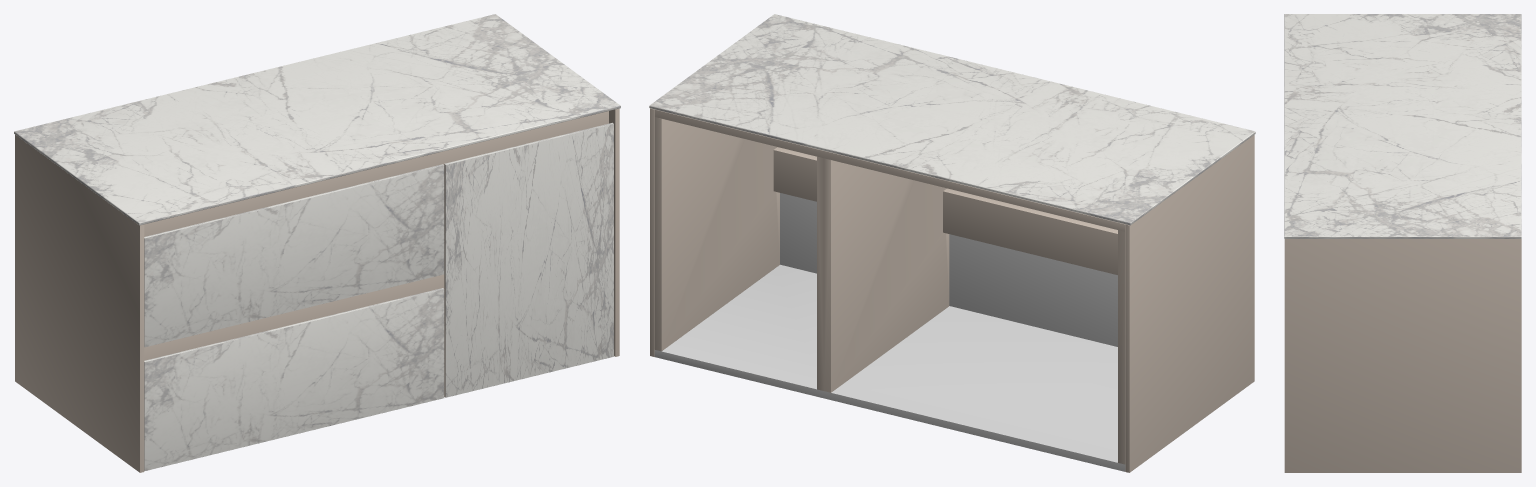
The picture shows the model from 3 angles, left to right: view 1: azimuth 30°, elevation 25°; view 2: azimuth 150°, elevation 25°; view 3: azimuth 270°, elevation 25°; orthographic projection. The views are drawn at different scales.
Parts seen in each view (by area): view 1: EL07; view 2: EL07; view 3: EL07.
Boxes of the visible parts, <box> form: EL07: <box>14,14,620,472</box>; EL07: <box>649,14,1255,472</box>; EL07: <box>1284,14,1521,472</box>.
Size of the model in its own units: 1.1 by 0.546 by 0.4961.
Materials: 4 (1 with a texture image).
